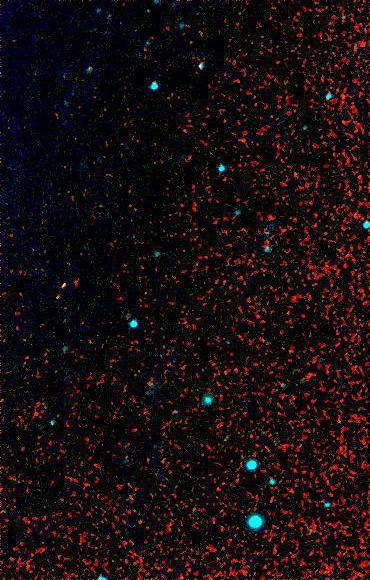star: (48, 270, 78, 300)
